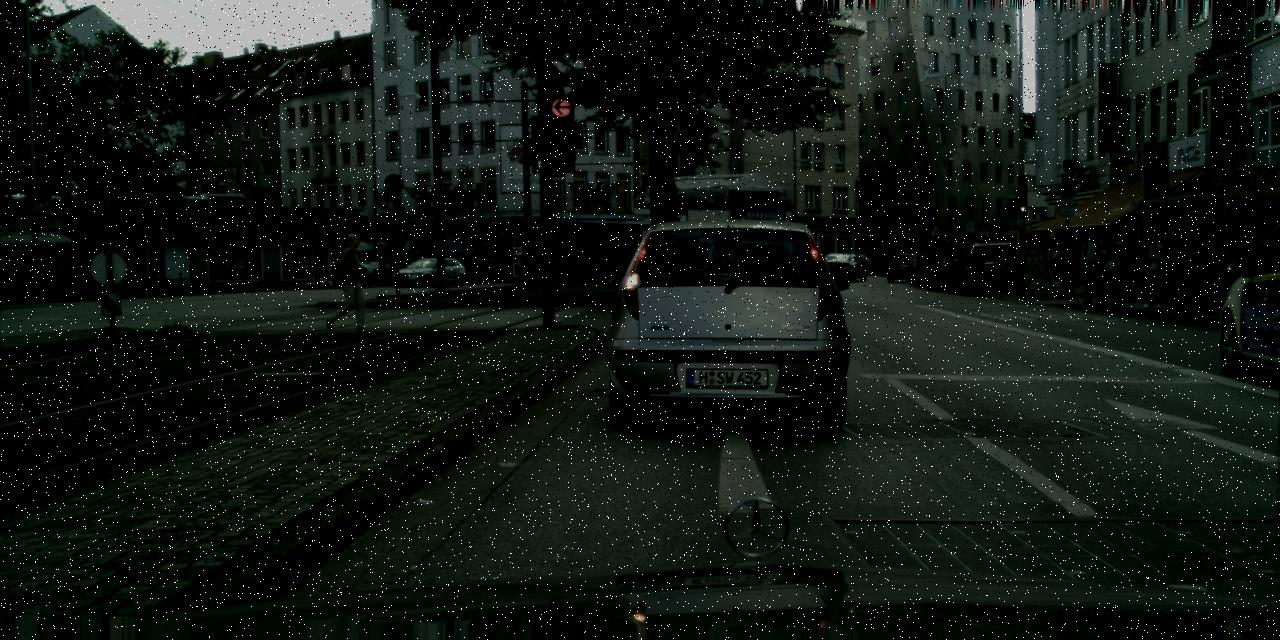ped: (330, 233, 370, 328), (1232, 226, 1267, 312), (1142, 230, 1172, 306), (1137, 230, 1167, 302), (1079, 229, 1108, 302), (1258, 214, 1279, 310), (1095, 234, 1123, 303), (1052, 232, 1076, 294), (1108, 234, 1133, 293), (12, 258, 26, 292)
